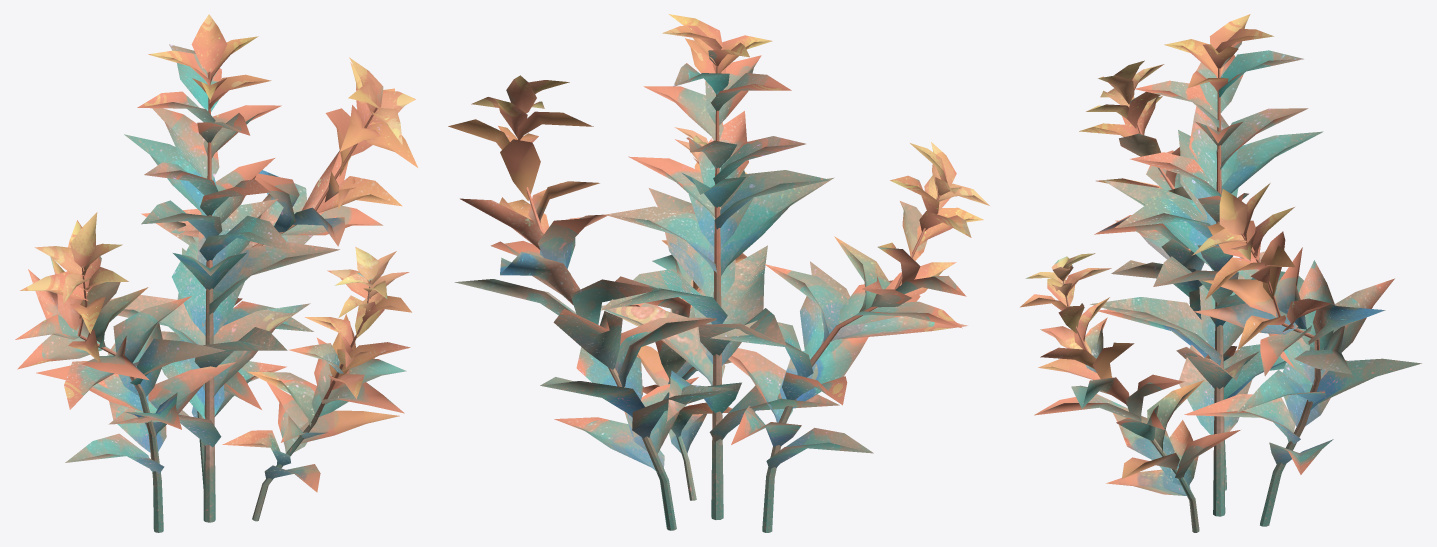
Rendered from Smallplant1.fbx.
3 renders of one model, left to right at view 1: azimuth 30°, elevation 25°; view 2: azimuth 150°, elevation 25°; view 3: azimuth 270°, elevation 25°, orthographic. The views are drawn at different scales.
Parts seen in each view (by area): view 1: plant5; view 2: plant5; view 3: plant5.
Part boxes in pixels (x1,y1,x2,y2): plant5: (15, 14, 417, 532); plant5: (448, 14, 989, 532); plant5: (1020, 14, 1421, 532).
Size of the model in its own units: 42.12 by 43.9 by 32.64.
1 material, 1 textured.
